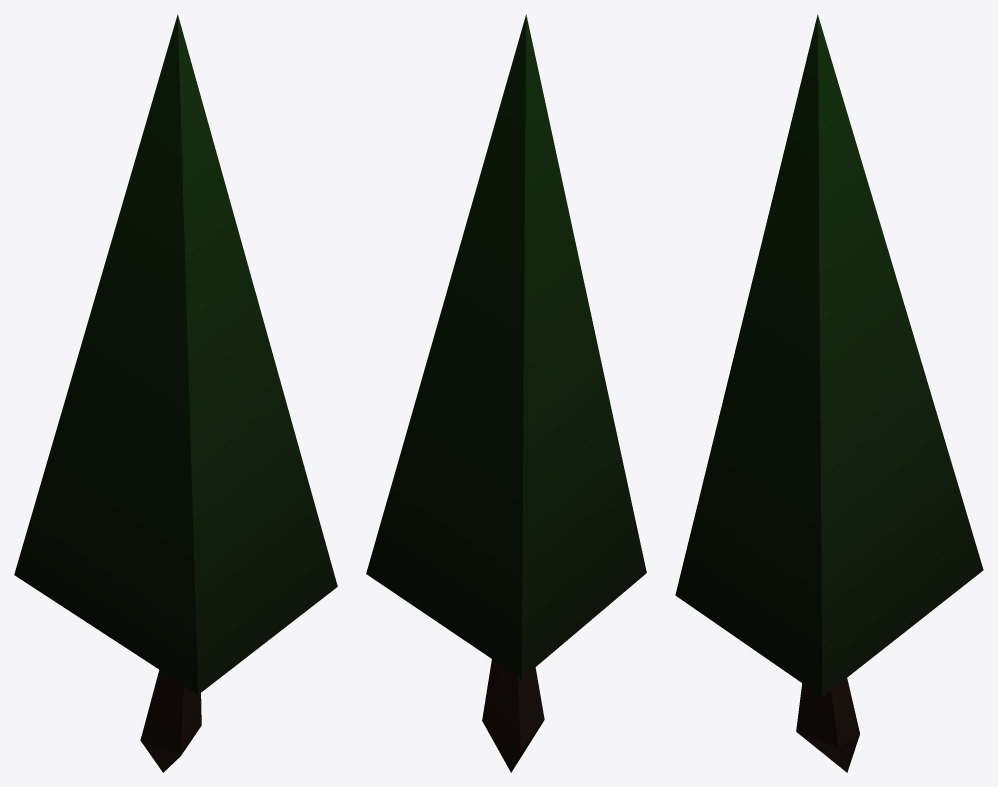
Rendered from c_tree_pine_ab.fbx.
The picture shows the model from 3 angles, left to right: view 1: azimuth 30°, elevation 25°; view 2: azimuth 150°, elevation 25°; view 3: azimuth 270°, elevation 25°; orthographic projection. The views are drawn at different scales.
Parts seen in each view (by area): view 1: c_tree_pine_ab; view 2: c_tree_pine_ab; view 3: c_tree_pine_ab.
Part boxes in pixels (x1,y1,x2,y2): c_tree_pine_ab: (14,14,337,772); c_tree_pine_ab: (366,14,646,772); c_tree_pine_ab: (675,14,983,772).
Size of the model in its own units: 3.44 by 10.46 by 3.85.
